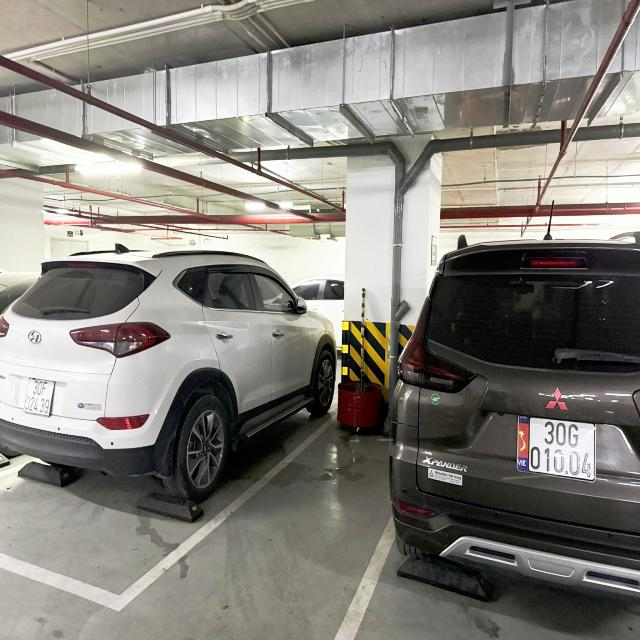license_plate: (515, 415, 598, 481), (23, 378, 56, 419)
